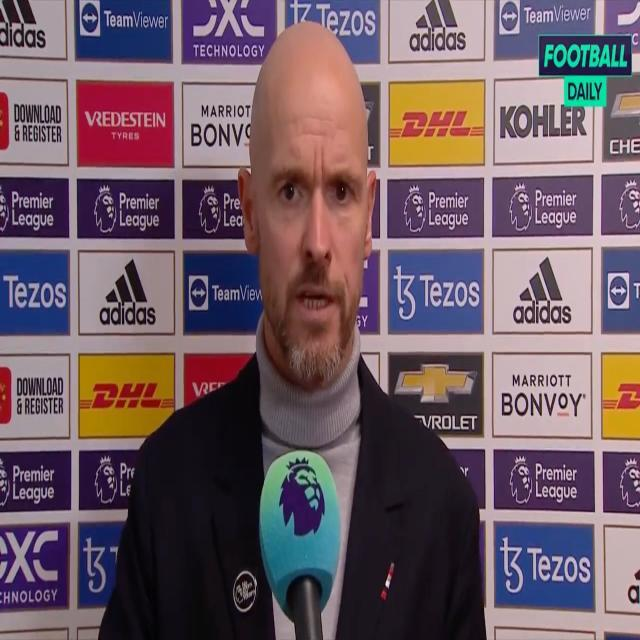Adidas: (513, 255, 572, 327), (100, 259, 157, 326), (409, 0, 467, 52)
Chevrolet: (396, 357, 479, 432)
Kohler: (501, 100, 586, 138)
TeamViewer: (81, 0, 169, 36), (500, 0, 591, 34)
